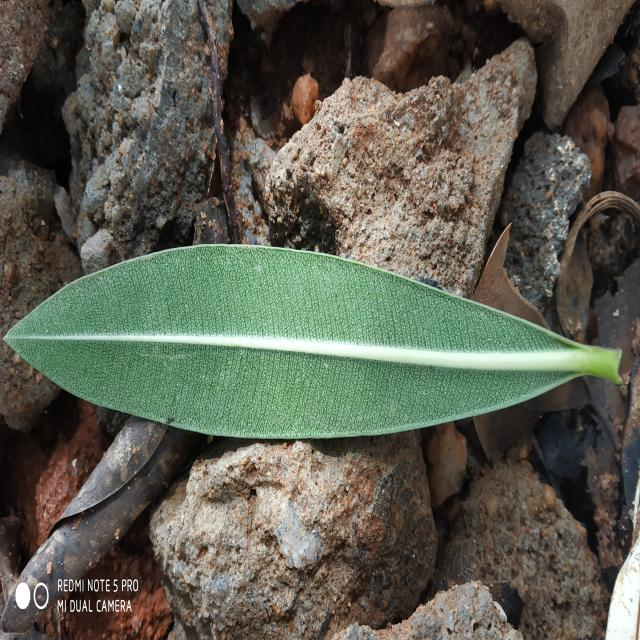ganigale: (6, 247, 620, 440)
